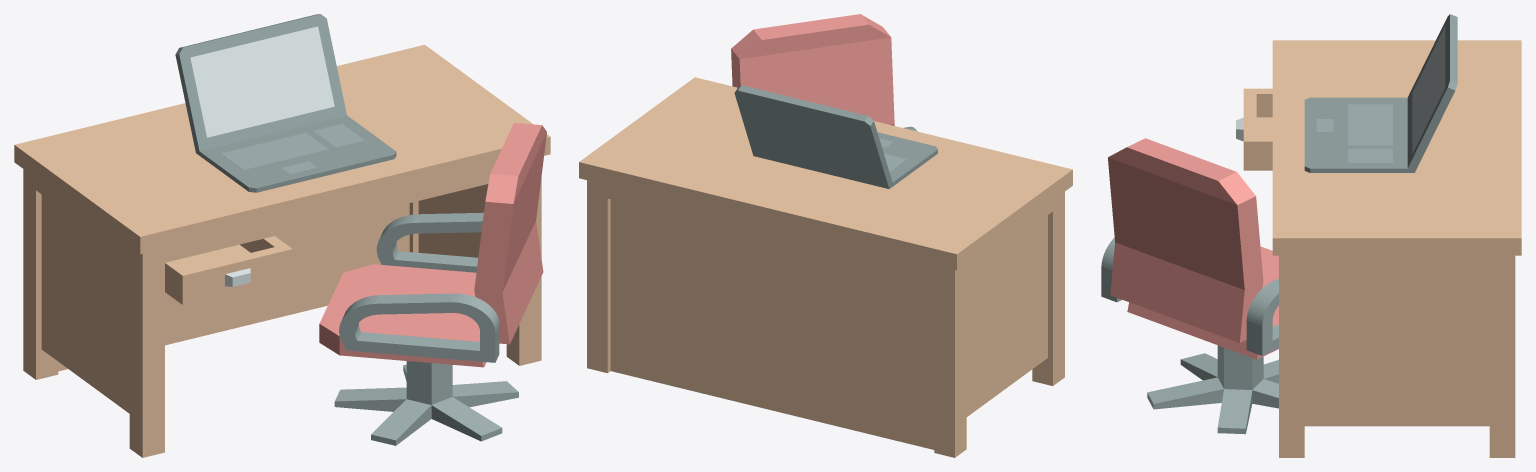
Rendered from Comdesk.gltf.
3 views of the same model, side by side, from view 1: azimuth 30°, elevation 25°; view 2: azimuth 150°, elevation 25°; view 3: azimuth 270°, elevation 25° (orthographic). The views are drawn at different scales.
Visible parts, largest first — view 1: chair, laptop(Clone); view 2: chair, laptop(Clone); view 3: chair, laptop(Clone).
Boxes of the visible parts, left/top/right/bottom form: chair: left=14, top=44, right=550, bottom=457; laptop(Clone): left=175, top=14, right=396, bottom=192; chair: left=579, top=14, right=1072, bottom=457; laptop(Clone): left=734, top=85, right=937, bottom=188; chair: left=1101, top=40, right=1521, bottom=457; laptop(Clone): left=1304, top=14, right=1457, bottom=172.
Bounding box in the file's own units: 0.7345 × 0.5427 × 0.6585.
